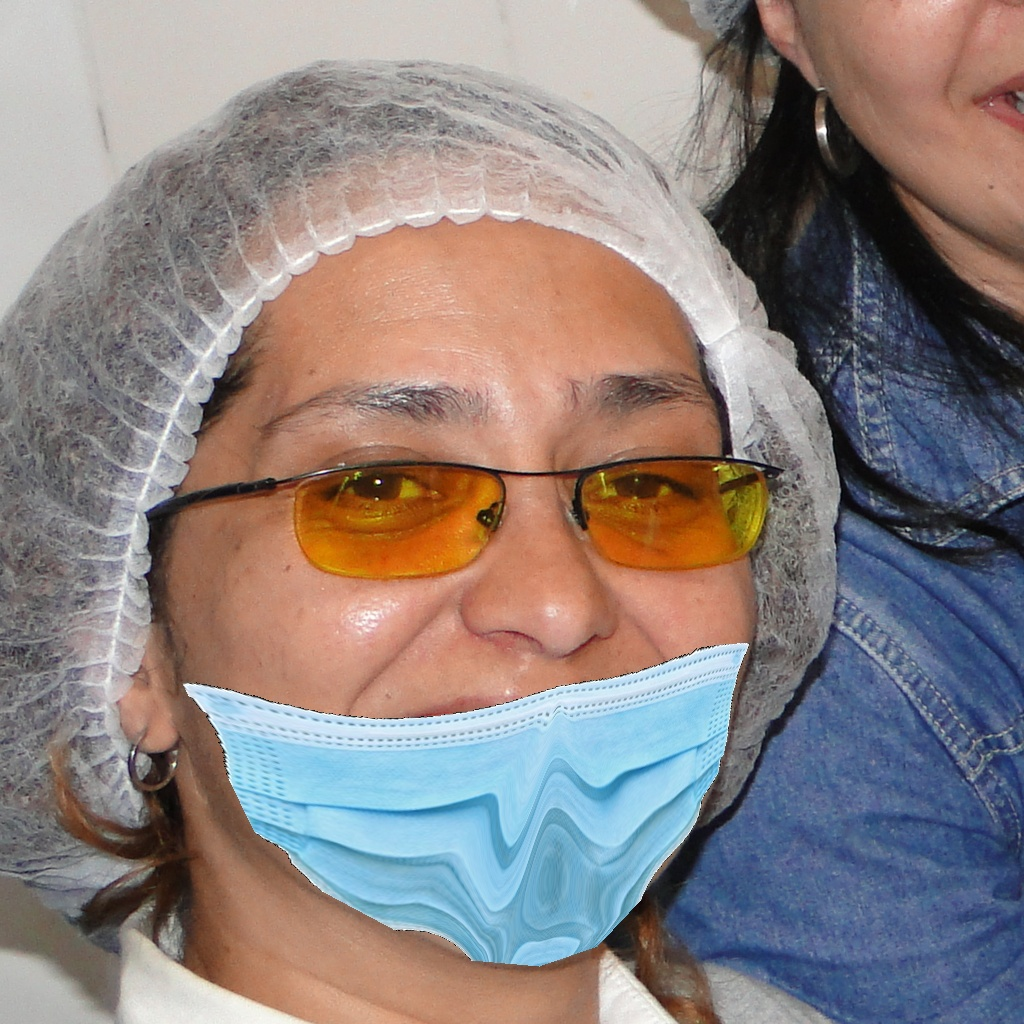mascarilla_mal_puesta: (187, 313, 769, 985)
